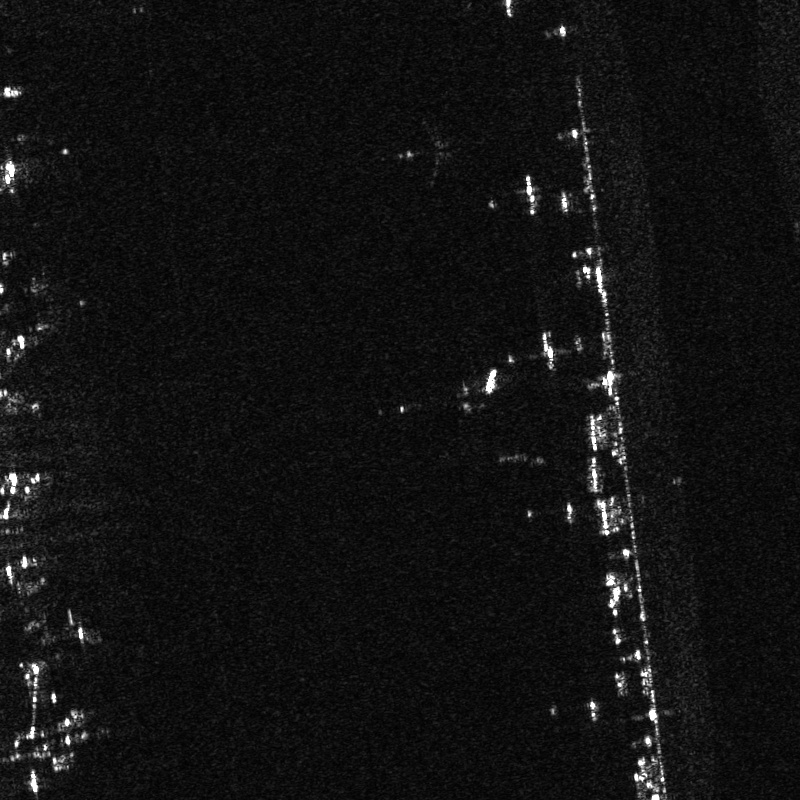Boeing737: (388, 116, 463, 192)
